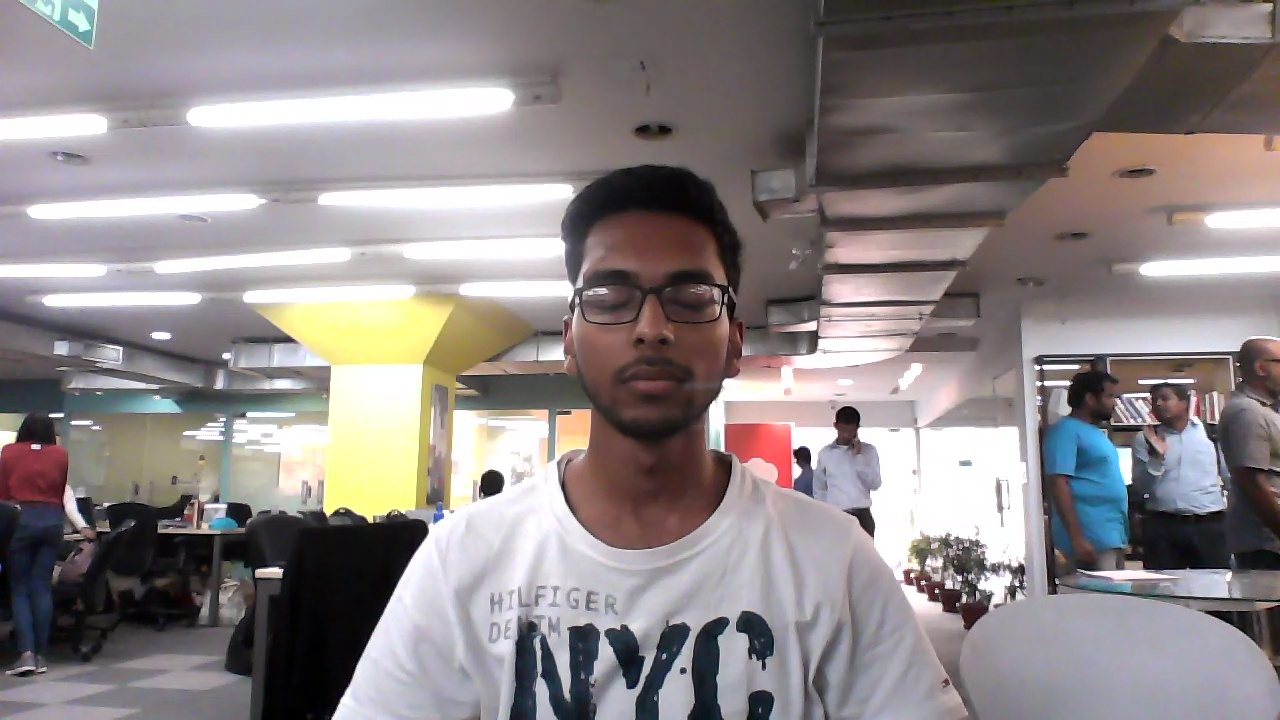closed: (553, 164, 760, 439)
